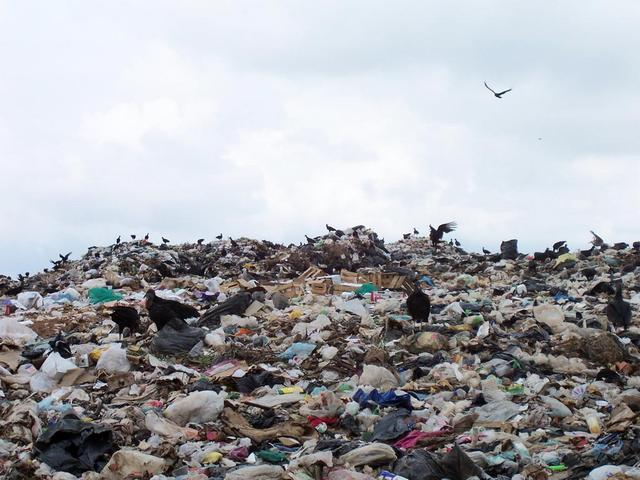garbage: (25, 267, 631, 471)
